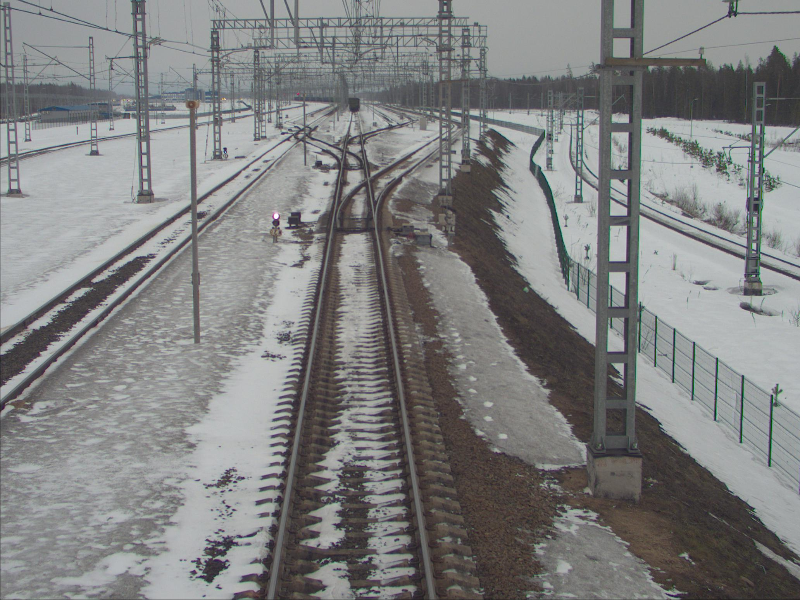left: (330, 177, 377, 232)
right: (338, 149, 368, 169)
